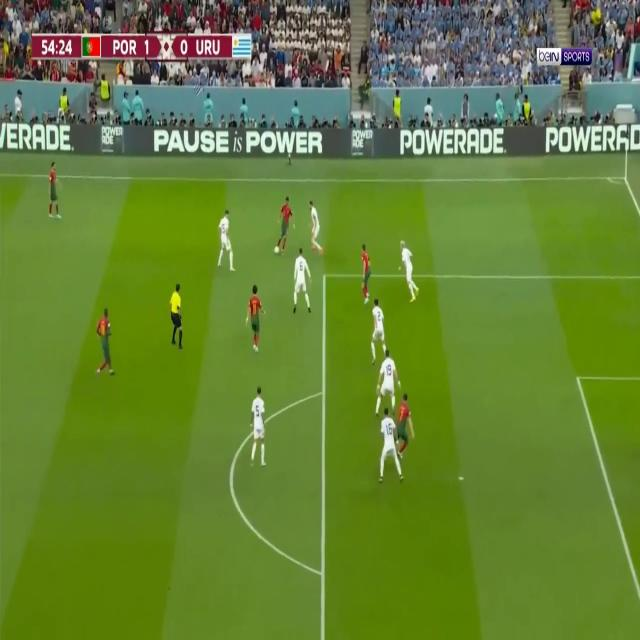Ball: (274, 246, 280, 253)
Referee: (168, 281, 185, 351)
TEAM 1: (393, 388, 417, 458), (95, 304, 117, 379), (244, 282, 267, 350), (276, 194, 297, 256), (359, 240, 374, 306), (46, 161, 61, 220)
TEAM 2: (378, 406, 404, 483), (374, 347, 402, 417), (248, 384, 269, 469), (398, 237, 422, 305), (292, 246, 314, 318), (370, 296, 390, 369), (218, 207, 235, 274), (309, 196, 324, 256)
